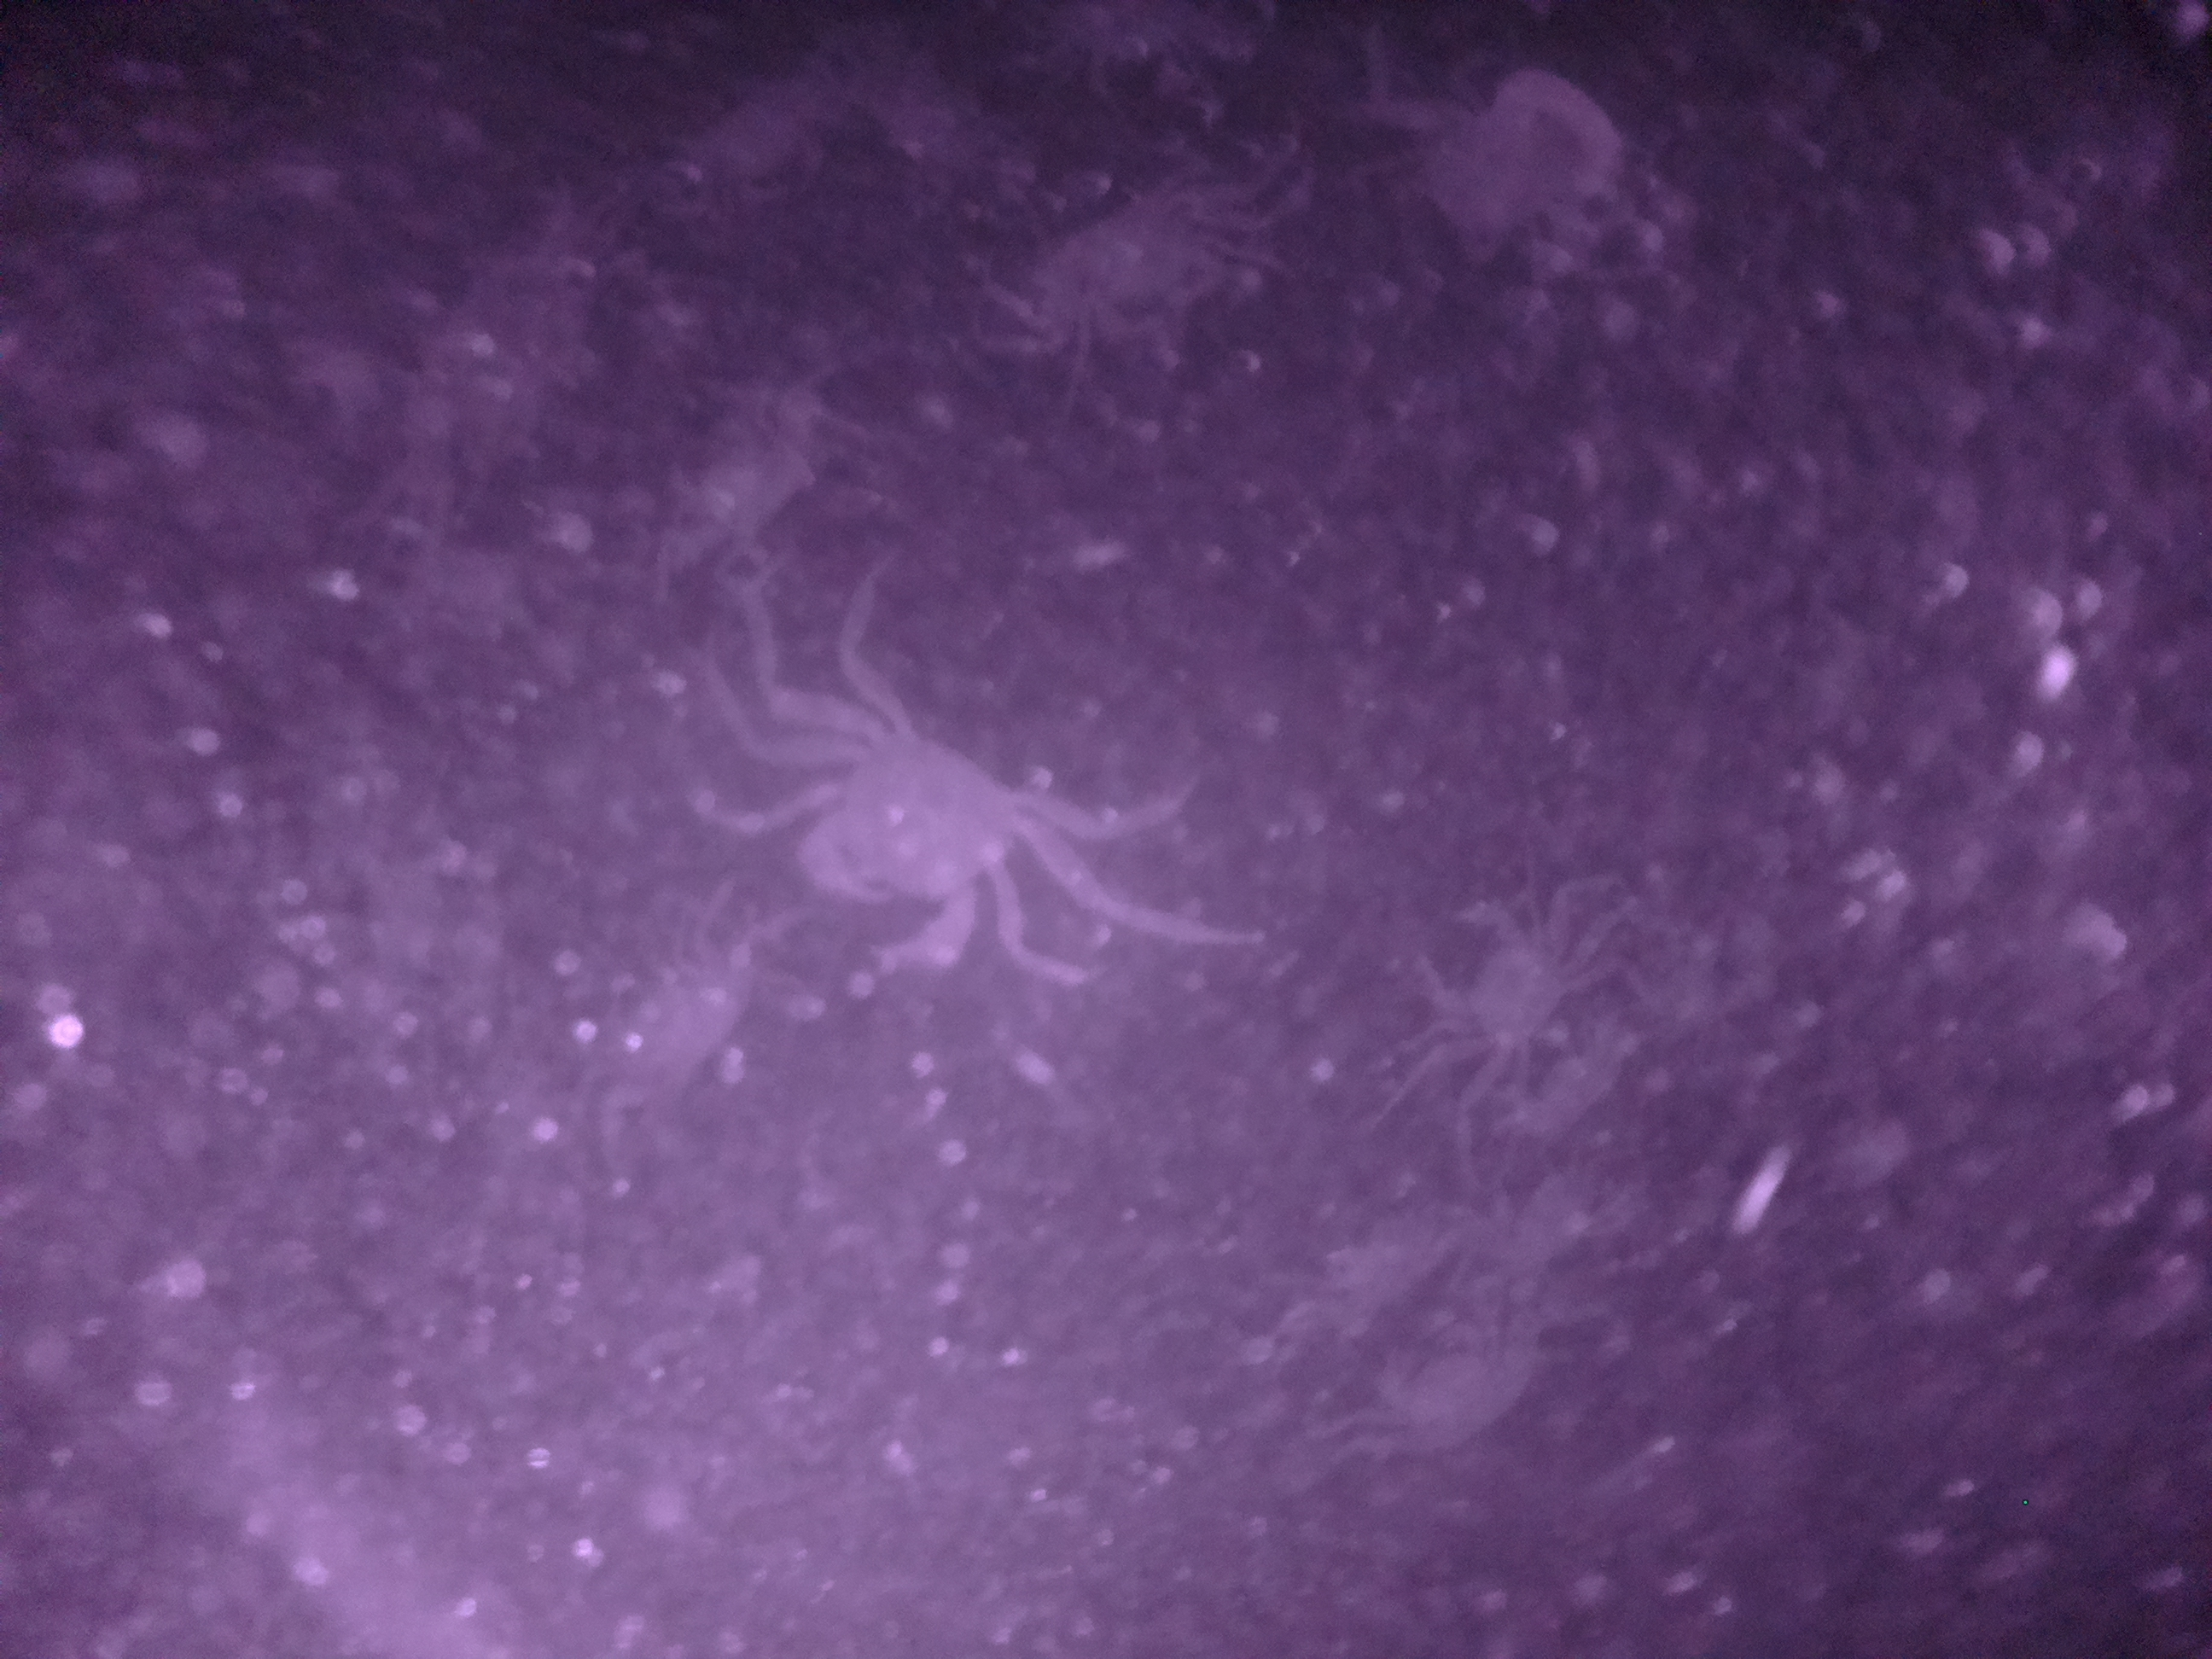Crab: (1026, 173, 1258, 347), (1407, 873, 1585, 1080)
